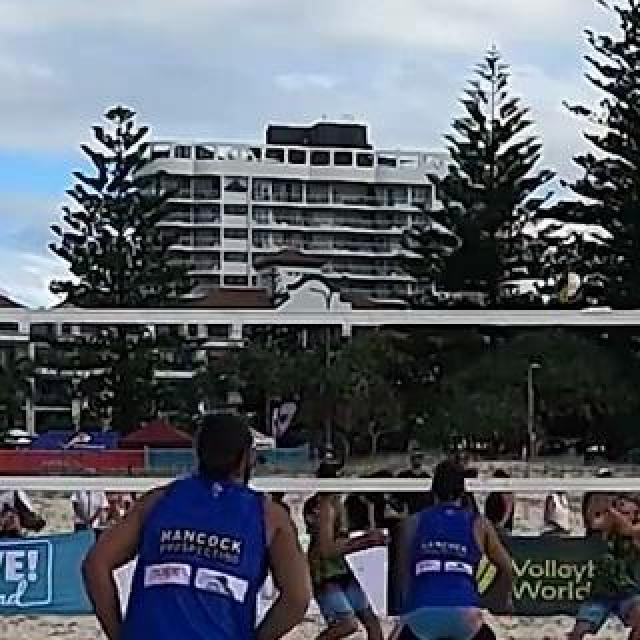volleyball: (557, 270, 581, 302)
